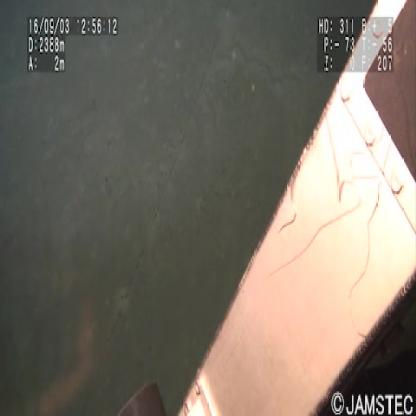Rov: (118, 1, 414, 414)
